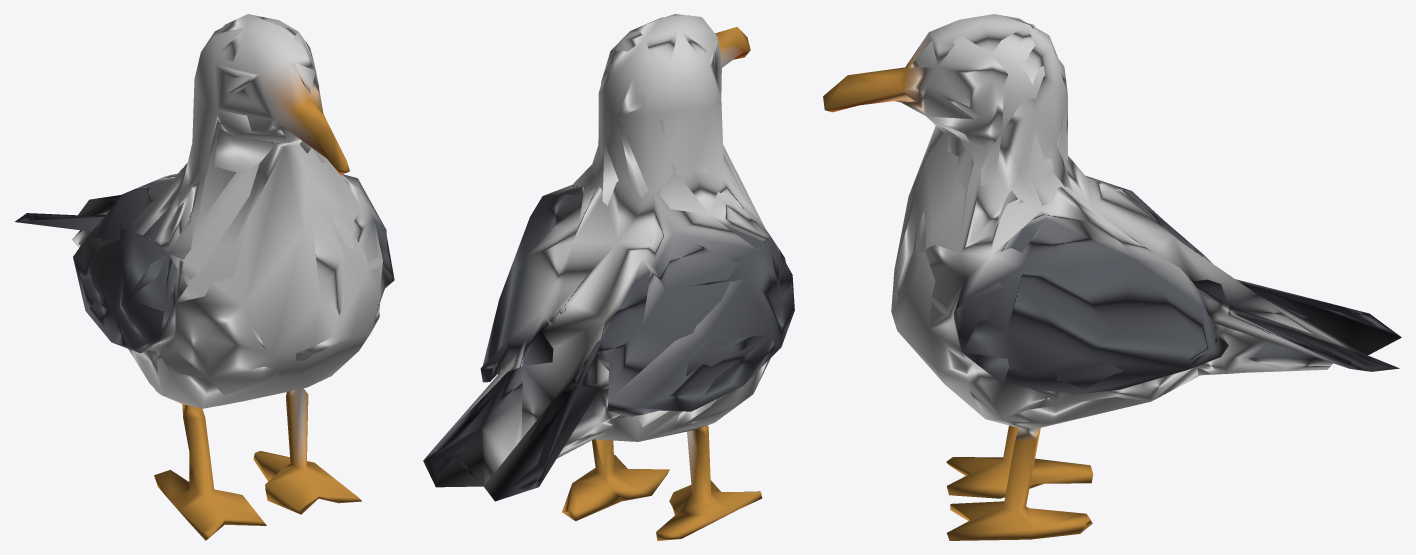
File: gen3d-seagull-lod1.glb
3 views of the same model, side by side, from view 1: azimuth 30°, elevation 25°; view 2: azimuth 150°, elevation 25°; view 3: azimuth 270°, elevation 25° (orthographic). The views are drawn at different scales.
Visible parts, largest first — view 1: part_0; view 2: part_0; view 3: part_0.
Part boxes in pixels (bbox=[...]): part_0: bbox=[15, 14, 394, 540]; part_0: bbox=[423, 14, 794, 540]; part_0: bbox=[823, 14, 1401, 540].
Bounding box in the file's own units: 0.5568 × 0.998 × 1.08.
